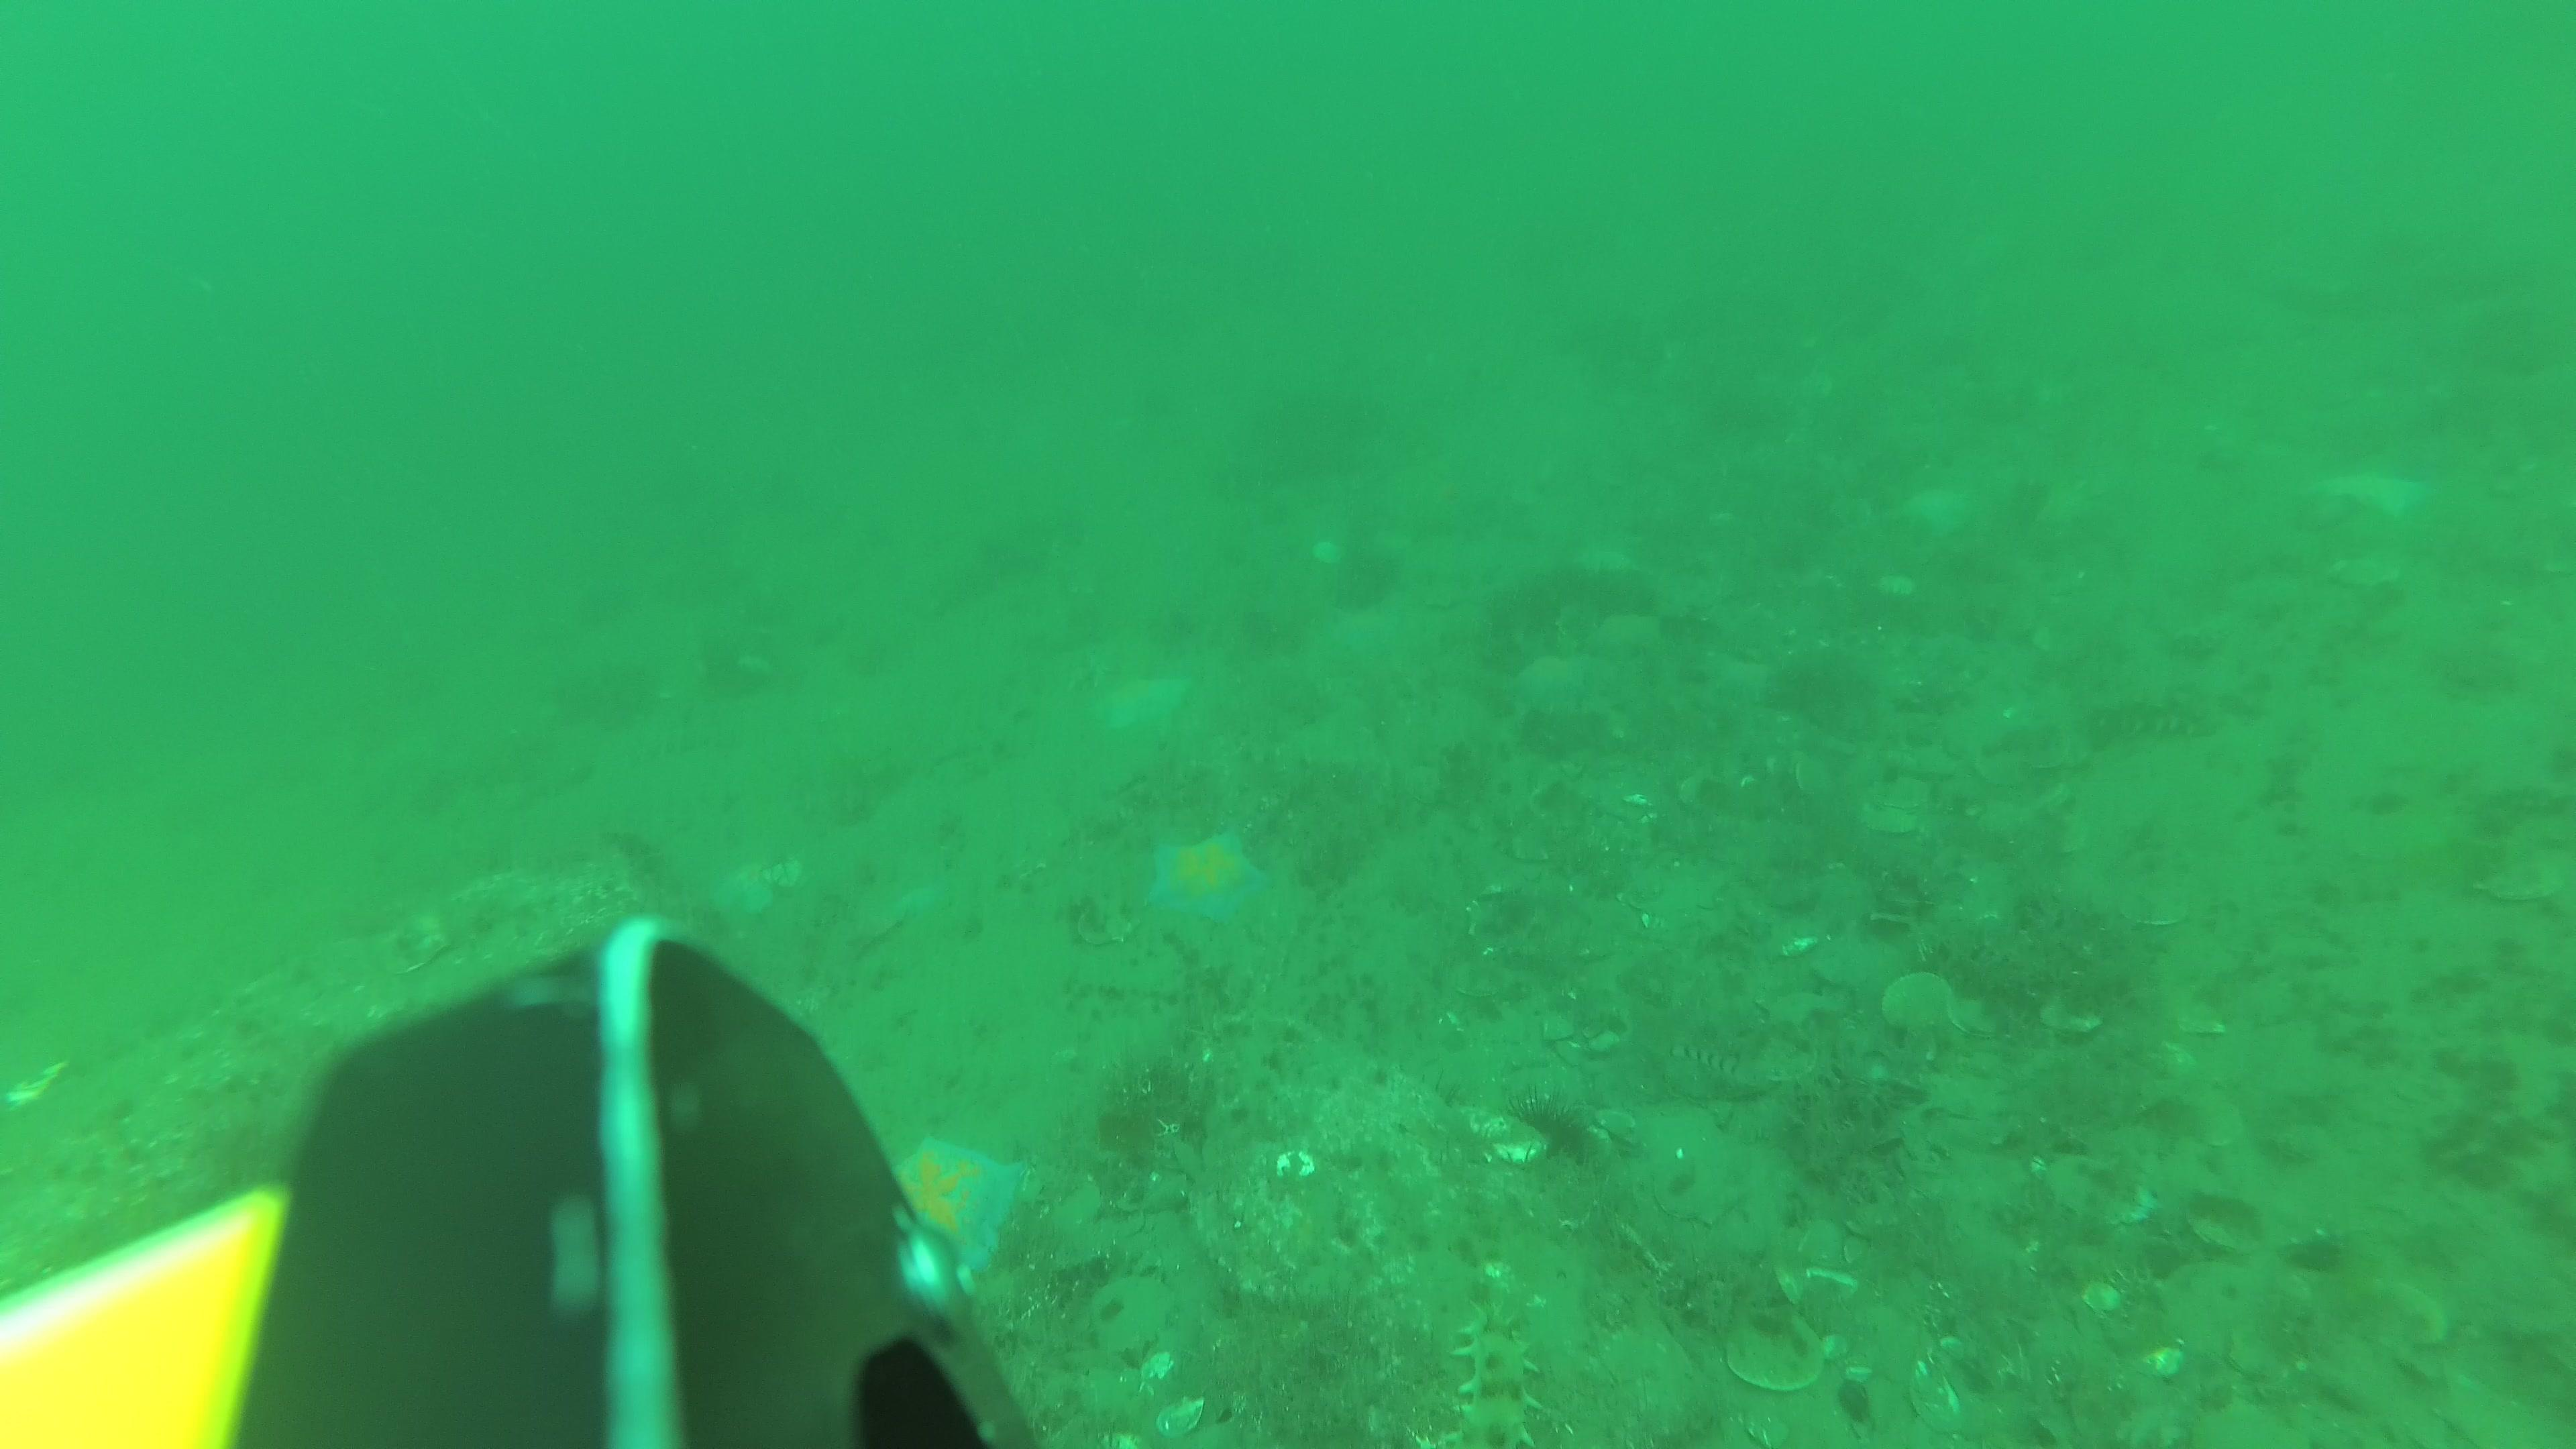echinus: (1493, 1074, 1606, 1184)
holothurian: (1407, 1293, 1546, 1449), (2082, 686, 2224, 748)
scallop: (1714, 1297, 1836, 1394), (2342, 1263, 2452, 1357), (2040, 1148, 2162, 1230), (1640, 1152, 1746, 1228), (2185, 1191, 2279, 1265), (2472, 855, 2576, 911), (1879, 966, 1962, 1037), (2112, 872, 2201, 929), (1074, 899, 1134, 950), (1946, 991, 2012, 1035), (1868, 773, 1934, 817), (1858, 805, 1920, 839)
starfish: (872, 1120, 1033, 1283), (1134, 819, 1269, 934), (2298, 462, 2440, 525), (1500, 648, 1605, 722), (1083, 669, 1194, 738), (1891, 483, 1976, 550), (708, 858, 784, 931)
